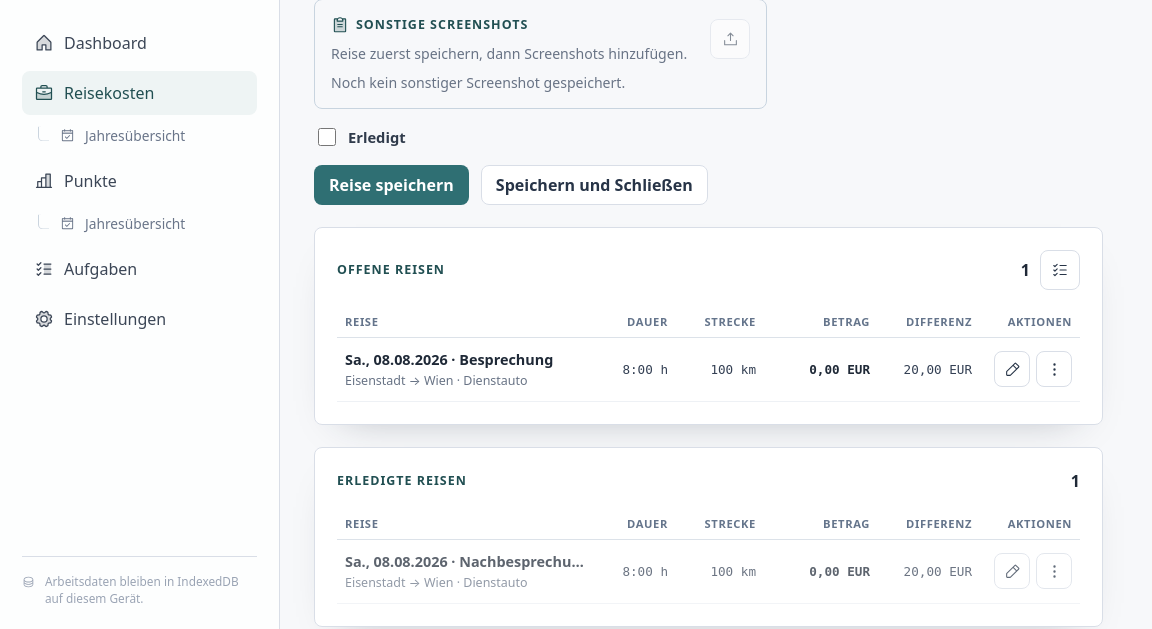
travel expense view › renders aligned trip columns and keeps edit and worklist actions directly available
(page scrolled)
Expected: the button "Als erledigt markieren" is not shown
Expected: the number of buttons named "Bearbeiten" is 2, [994,351,1030,387]; [994,553,1030,589]
Click the button named "Offene Reisen abarbeiten". click: (1060, 270)
box: [1040,250,1080,290]
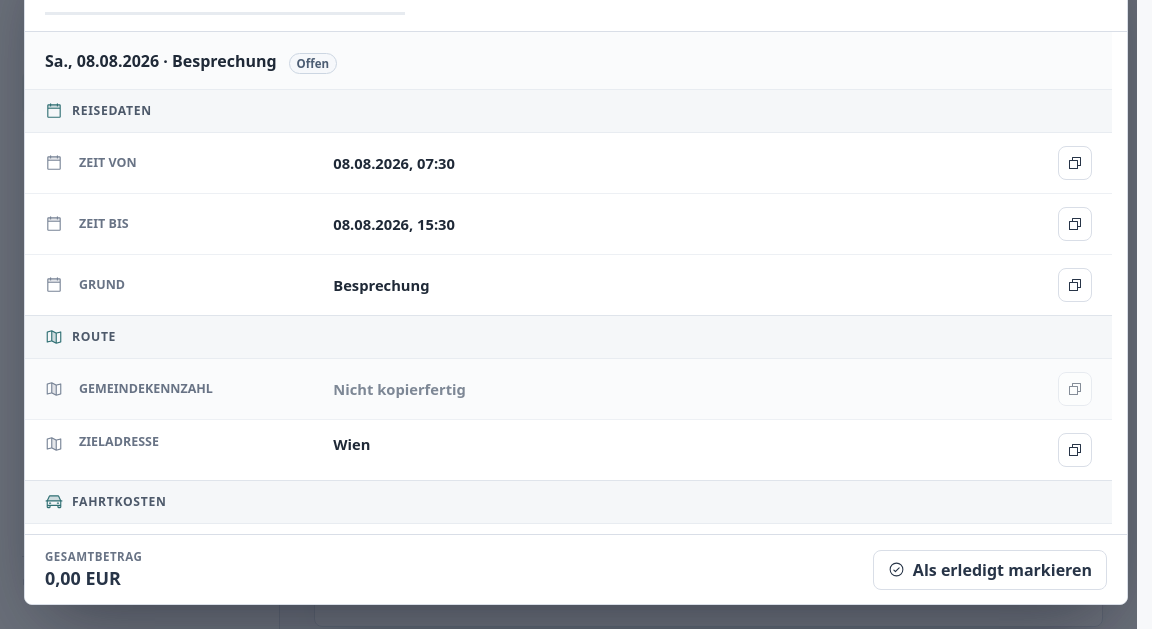
Expected: the button "Als erledigt markieren" is shown, [873,550,1107,590]
